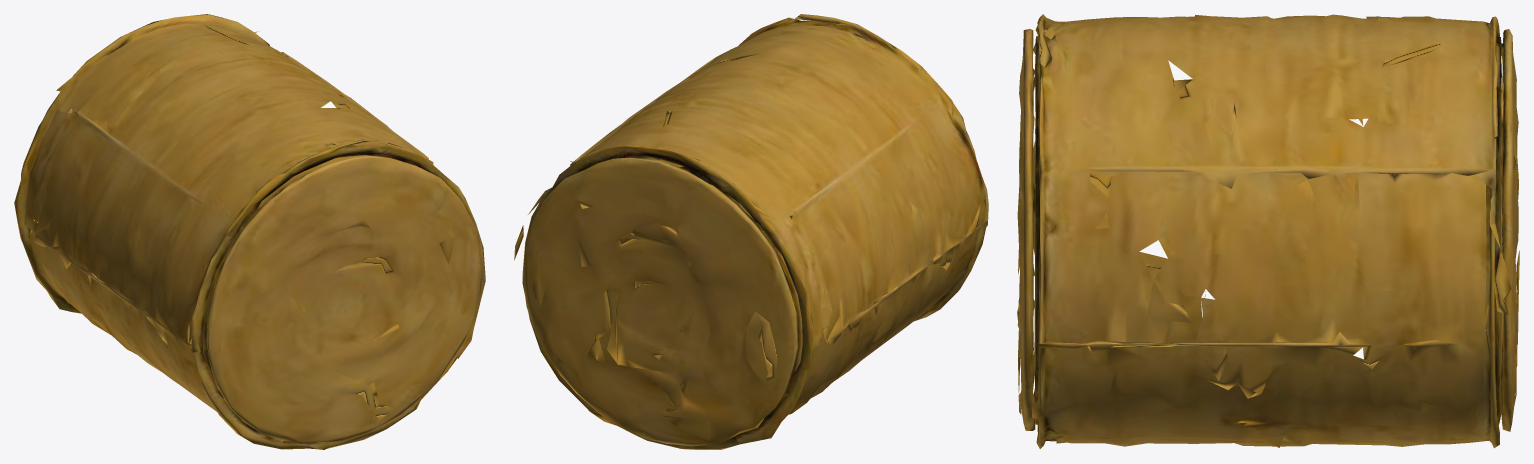
Rendered from haybale.glb.
The picture shows the model from 3 angles, left to right: view 1: azimuth 30°, elevation 25°; view 2: azimuth 150°, elevation 25°; view 3: azimuth 270°, elevation 25°; orthographic projection. The views are drawn at different scales.
Parts seen in each view (by area): view 1: HaybaleBody; view 2: HaybaleBody; view 3: HaybaleBody.
Boxes of the visible parts, x1,y1,x2,y2 form: HaybaleBody: [14, 14, 485, 449]; HaybaleBody: [514, 14, 988, 449]; HaybaleBody: [1017, 14, 1519, 448].
Size of the model in its own units: 1.35 by 1.31 by 1.5.
Materials: 1 (1 with a texture image).
